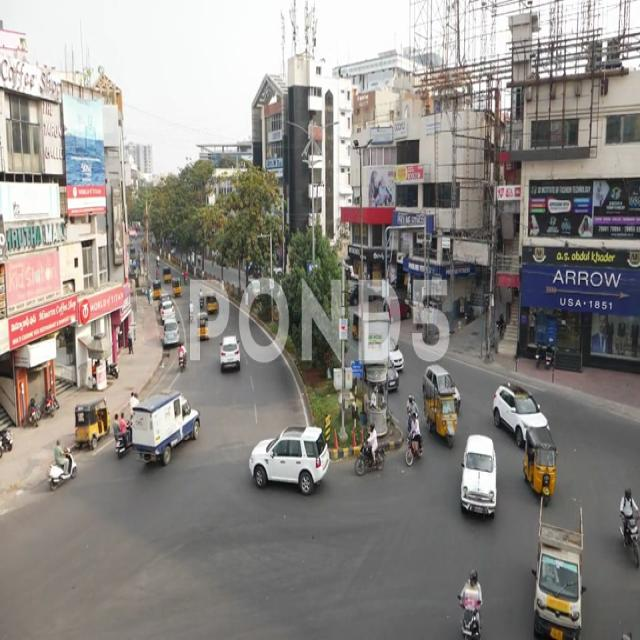cab: (463, 436, 496, 522)
car: (244, 422, 329, 494)
motorbike: (454, 563, 488, 638), (619, 484, 640, 573), (354, 425, 387, 479)
rikshaw: (74, 396, 113, 453), (526, 435, 556, 503)
truck: (133, 381, 214, 480), (423, 359, 462, 453), (46, 442, 78, 489)
